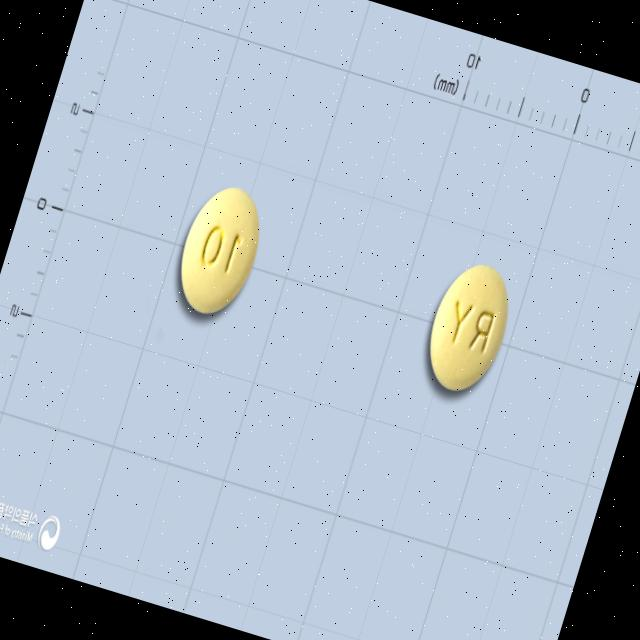Crabacter Tab: (414, 255, 522, 401), (166, 175, 272, 322)
